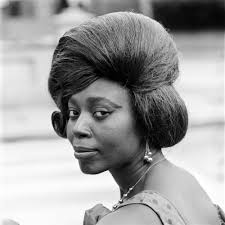person: (47, 9, 189, 177)
